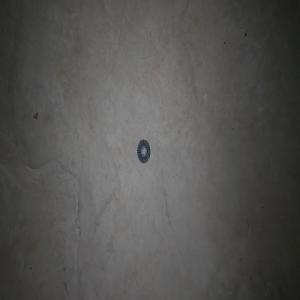Washer: (137, 138, 150, 163)
